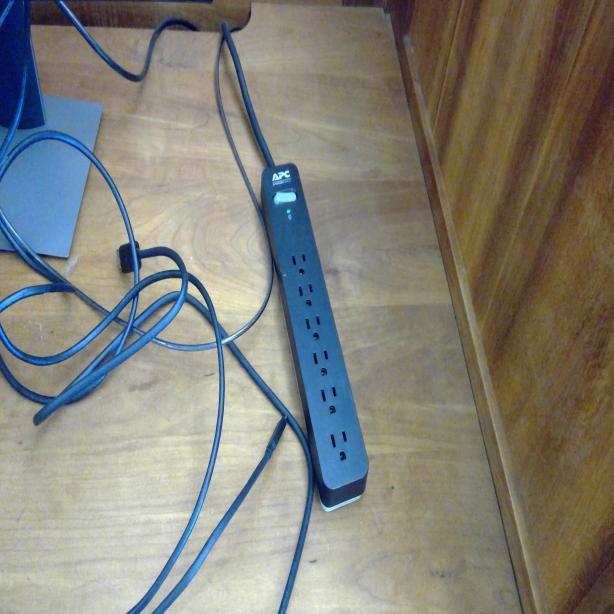typeb: (331, 429, 350, 468), (305, 310, 324, 348), (288, 248, 310, 280), (320, 383, 340, 418), (313, 346, 331, 381), (298, 278, 315, 308)
